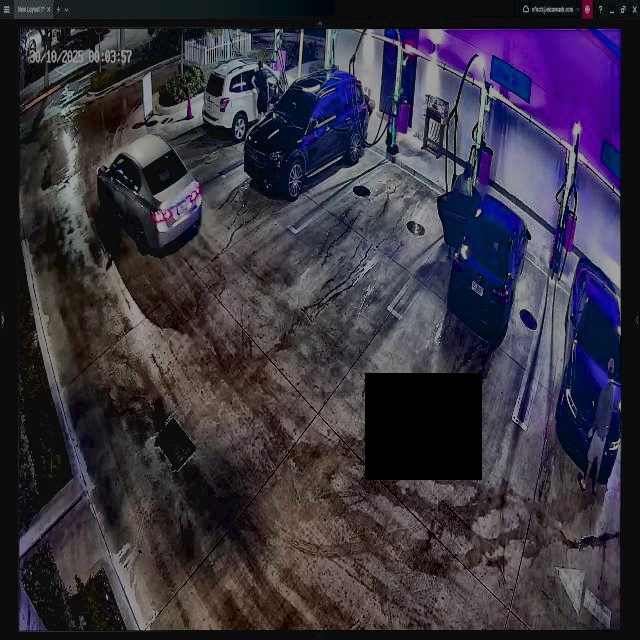Car: (242, 68, 369, 194), (440, 181, 531, 331), (95, 135, 202, 253)
